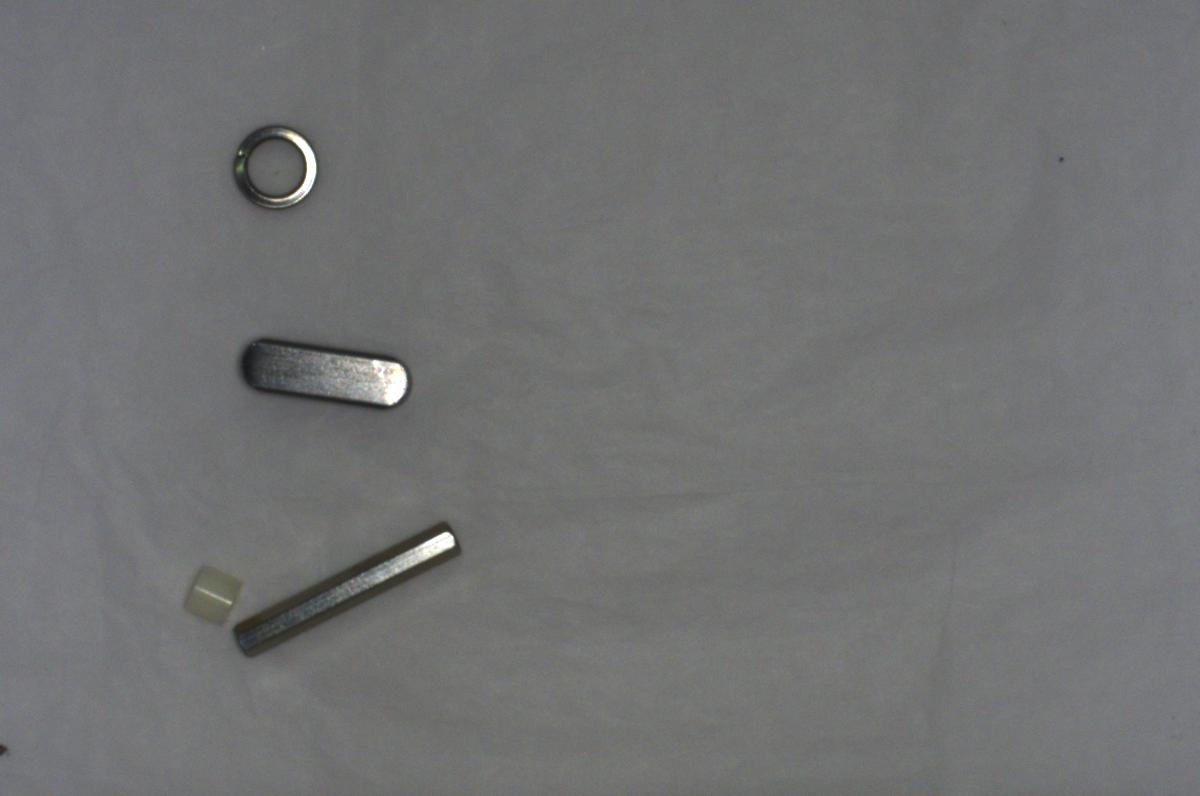Double hexagonal column: (214, 516, 470, 653)
Keybar: (234, 335, 420, 409)
Plastic cushion pillar: (173, 563, 244, 628)
Spring washer: (230, 120, 321, 213)
